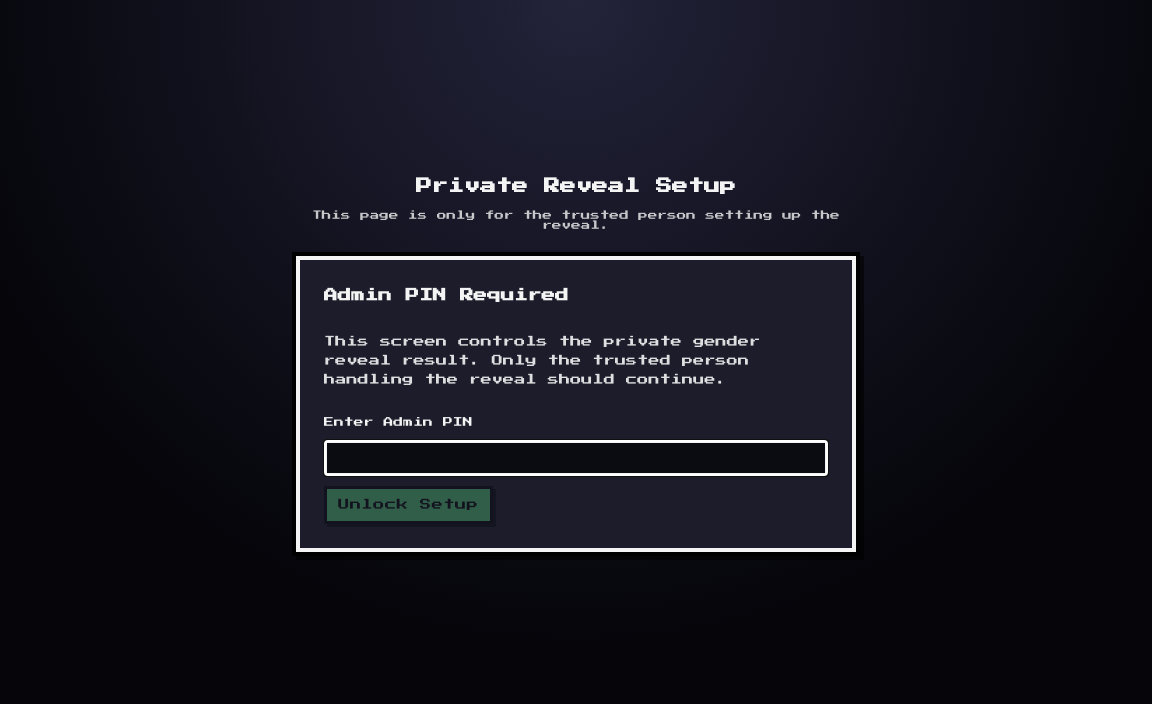
Scenario: SetupRoute › requires the PIN again to reset a locked reveal
Type "test-admin-pin" into the password field labelled "Enter Admin PIN" at (576, 458), box [324,440,828,476]
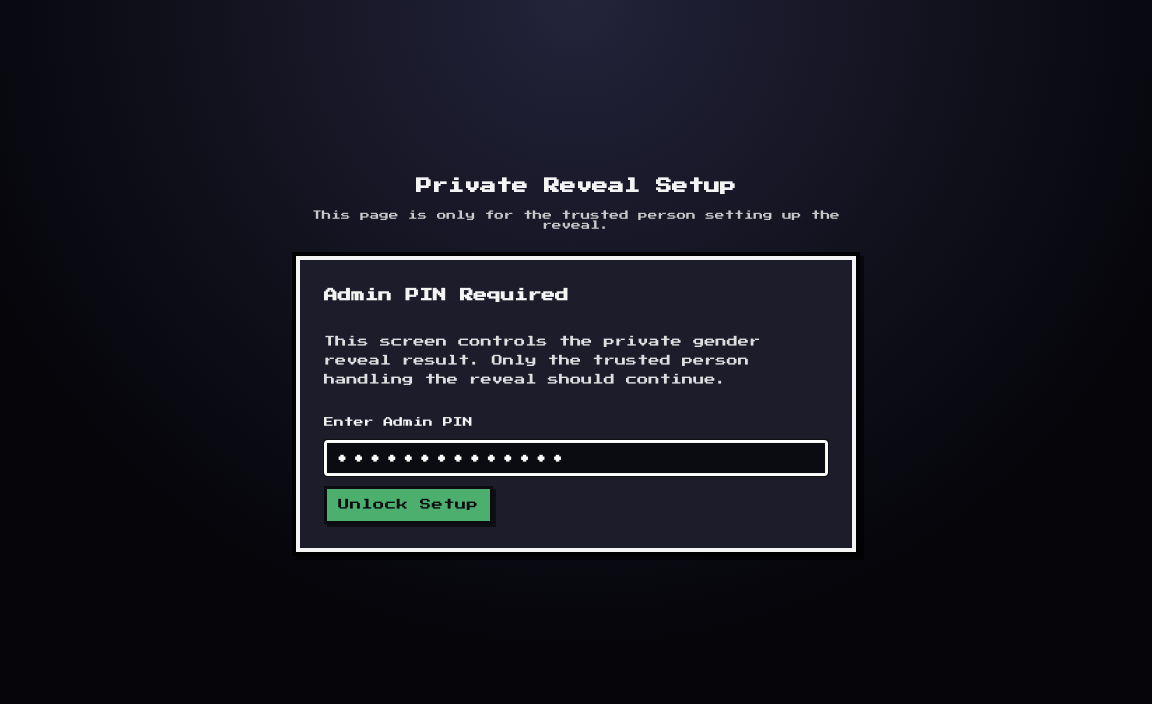
Click the button "Unlock Setup" at (408, 505), box [324,486,493,524]
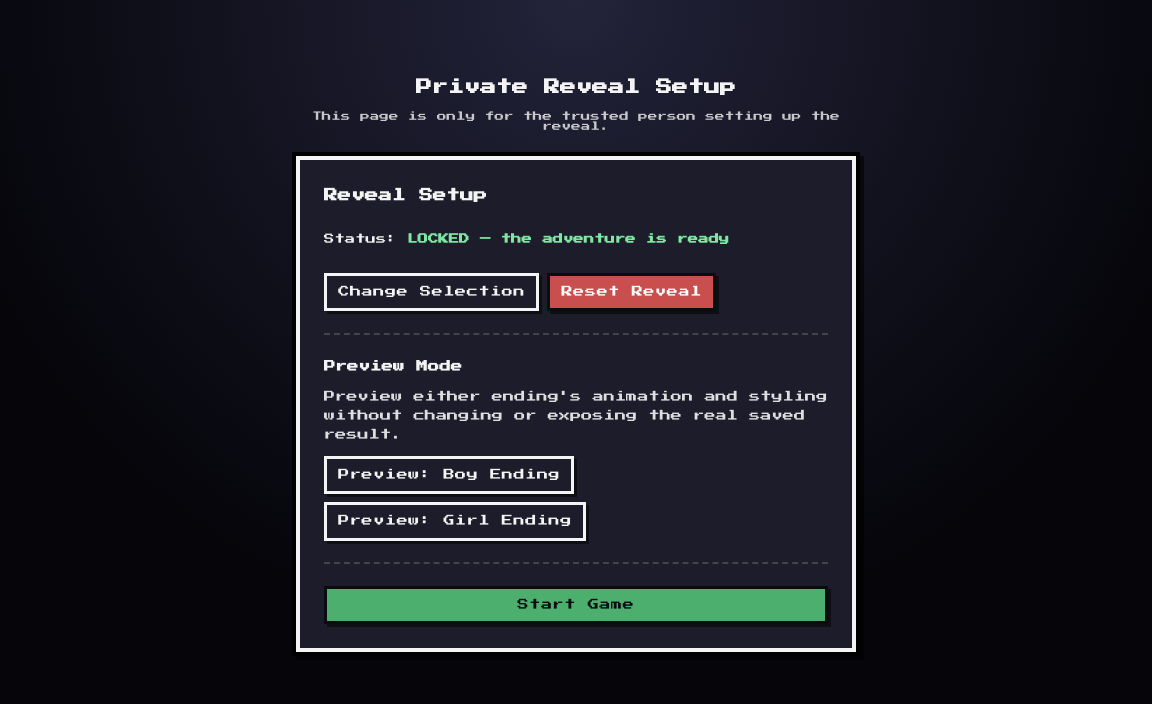
Click the button "Reset Reveal" at (632, 292), box [547,273,716,311]
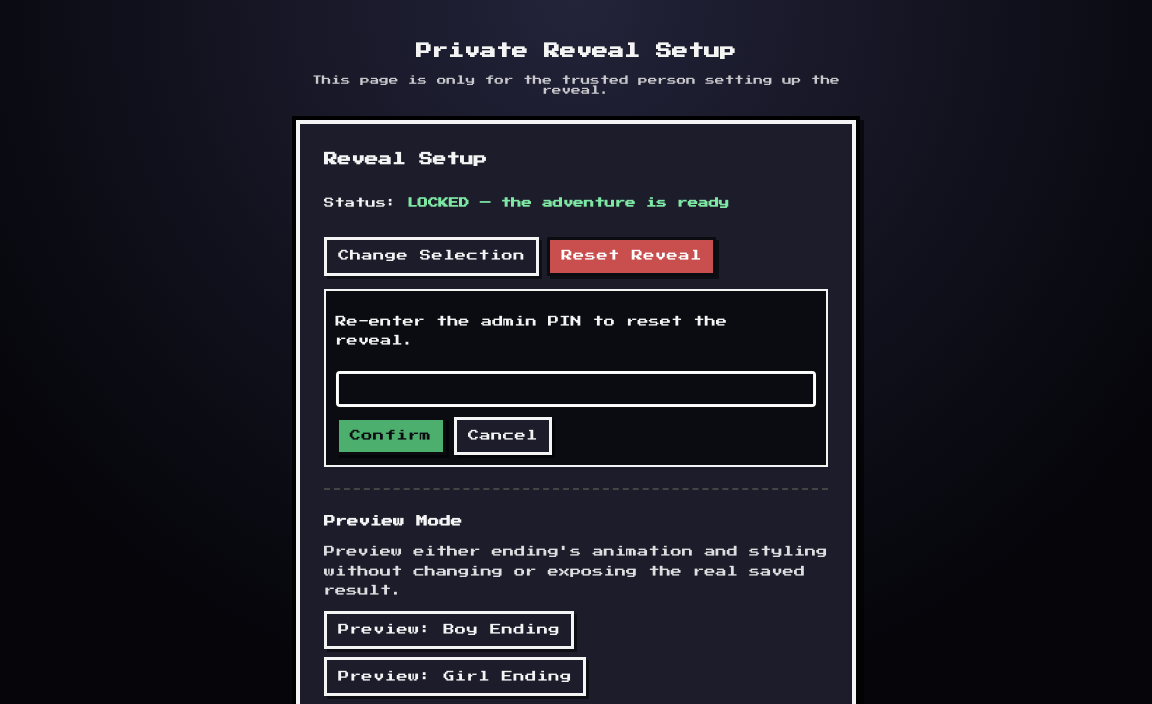
Type "wrong" into the password field named "Admin PIN" at (576, 389), box [336,371,816,407]
Click the button "Confirm" at (391, 436), box [336,417,446,455]
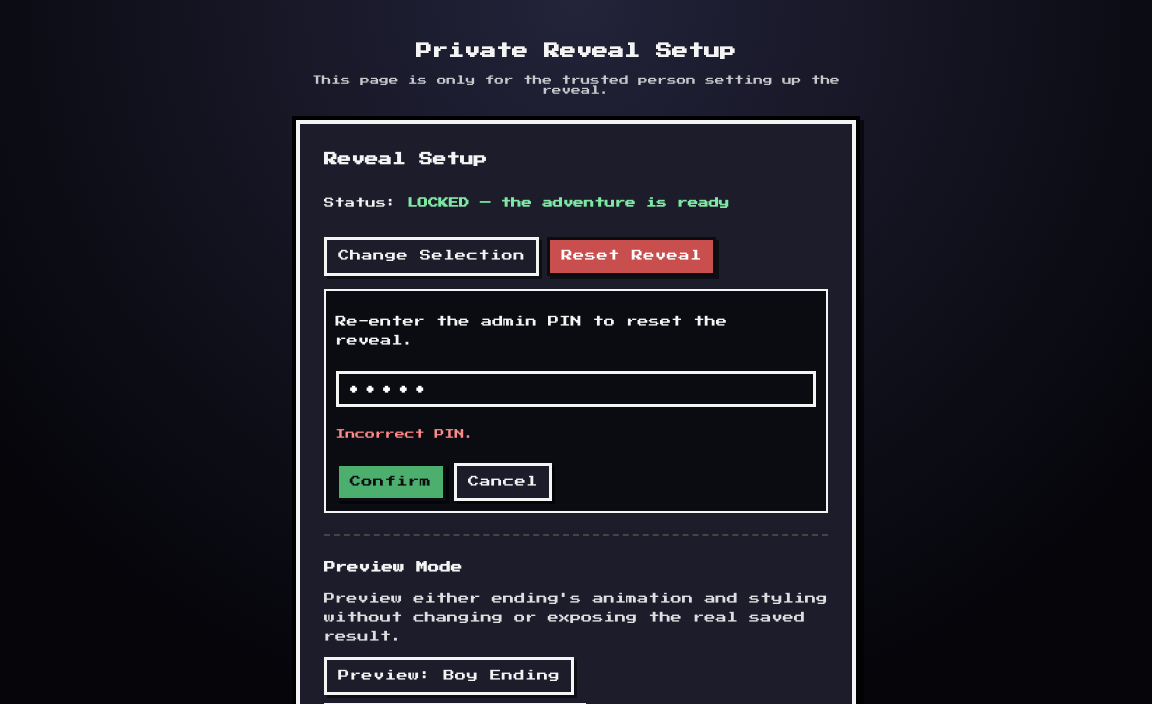
Now the text "LOCKED — the adventure is ready" is shown, box [407,198,729,208]
Now the text "Incorrect PIN." is shown, box [336,430,474,440]
Type "test-admin-pin" into the password field named "Admin PIN" at (576, 389), box [336,371,816,407]
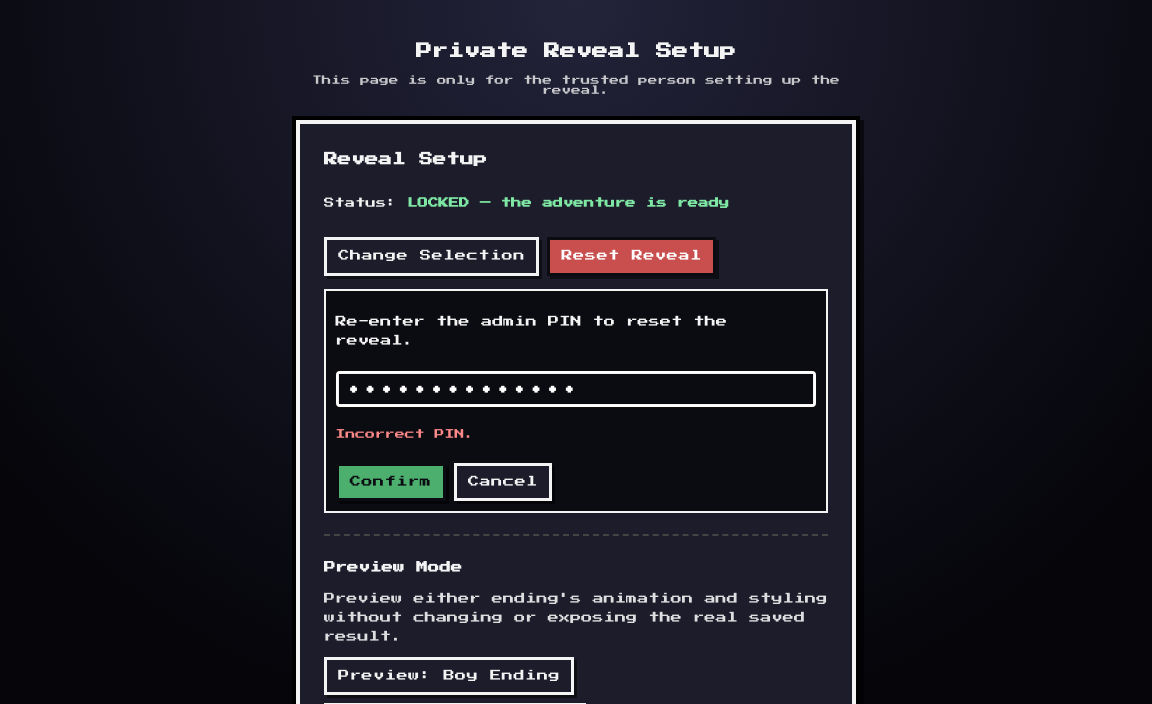
Click the button "Confirm" at (391, 482), box [336,463,446,501]
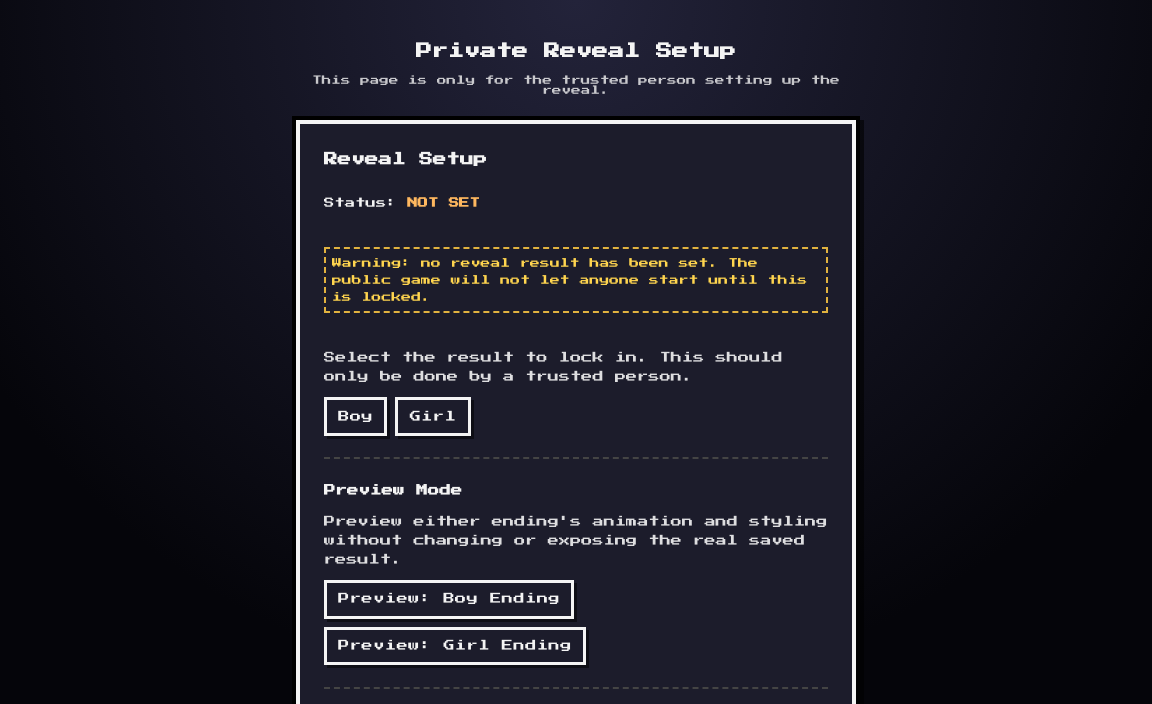
Now the text "NOT SET" is shown, box [407,198,480,208]
